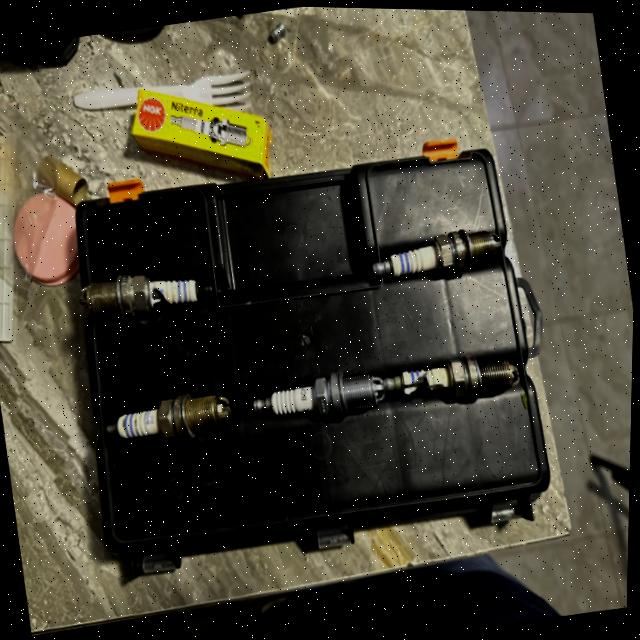damaged_spark-plug: (75, 257, 220, 332), (385, 341, 524, 412)
spark-plug: (100, 379, 243, 458), (246, 359, 393, 432), (366, 213, 508, 287)
